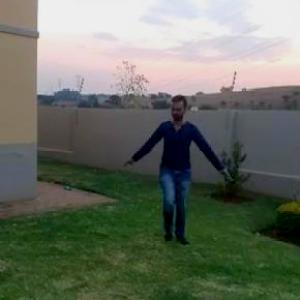land: (125, 85, 237, 264)
